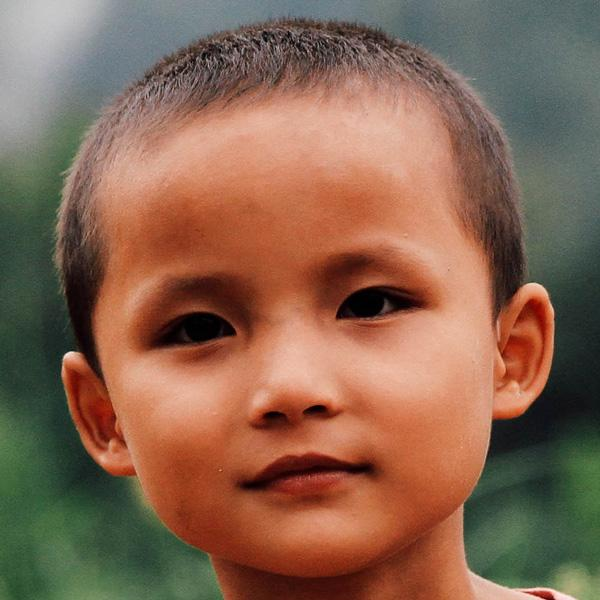Eyes: (139, 300, 249, 369), (325, 274, 435, 337)
